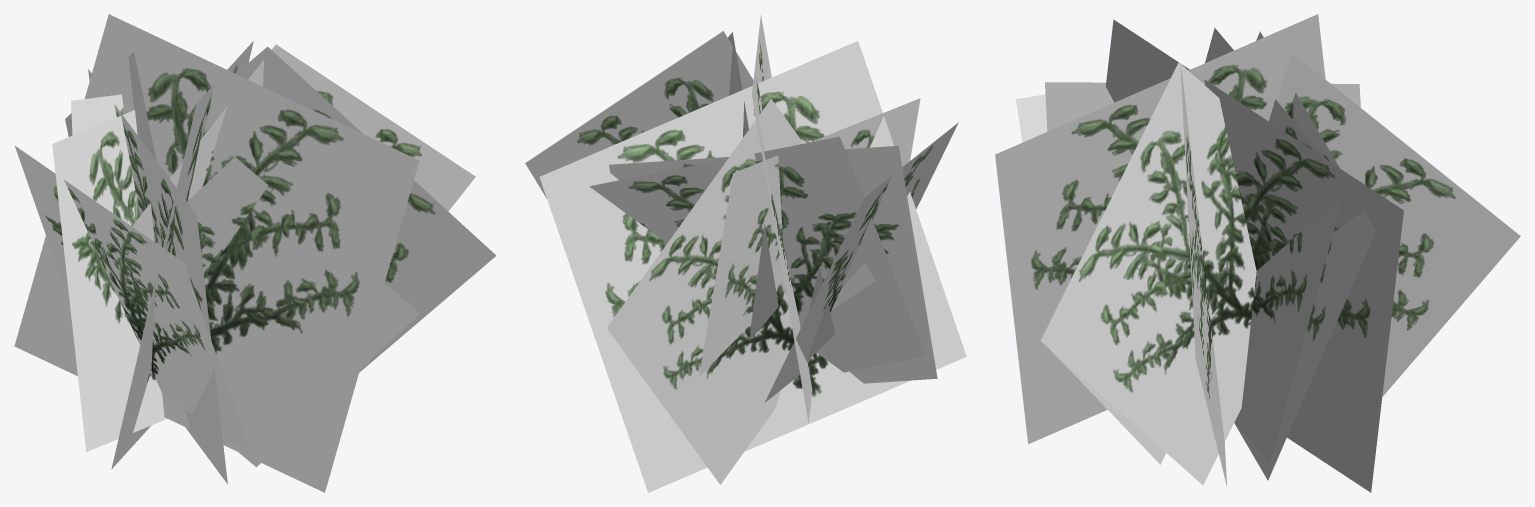
File: Bush_01_Low.fbx
3 views of the same model, side by side, from view 1: azimuth 30°, elevation 25°; view 2: azimuth 150°, elevation 25°; view 3: azimuth 270°, elevation 25° (orthographic). The views are drawn at different scales.
Visible parts, largest first — view 1: pPlane159; view 2: pPlane159; view 3: pPlane159.
Part boxes in pixels (bbox=[...]): pPlane159: bbox=[14, 14, 496, 492]; pPlane159: bbox=[525, 15, 966, 492]; pPlane159: bbox=[995, 14, 1520, 492].
Bounding box in the file's own units: 13.72 × 13.46 × 14.69.
